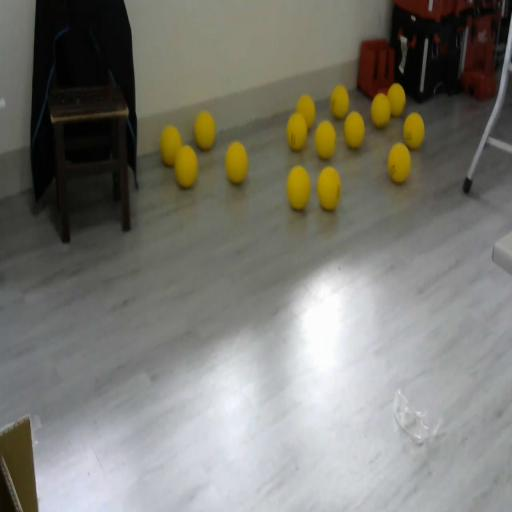FUEL: (316, 164, 342, 210), (286, 164, 311, 210), (224, 140, 249, 184), (174, 144, 199, 188), (387, 142, 411, 184), (160, 124, 182, 167), (193, 110, 216, 150), (314, 120, 336, 160), (343, 110, 365, 150), (403, 112, 425, 149), (296, 94, 316, 130), (371, 92, 391, 128), (330, 84, 349, 118), (387, 82, 406, 116)
